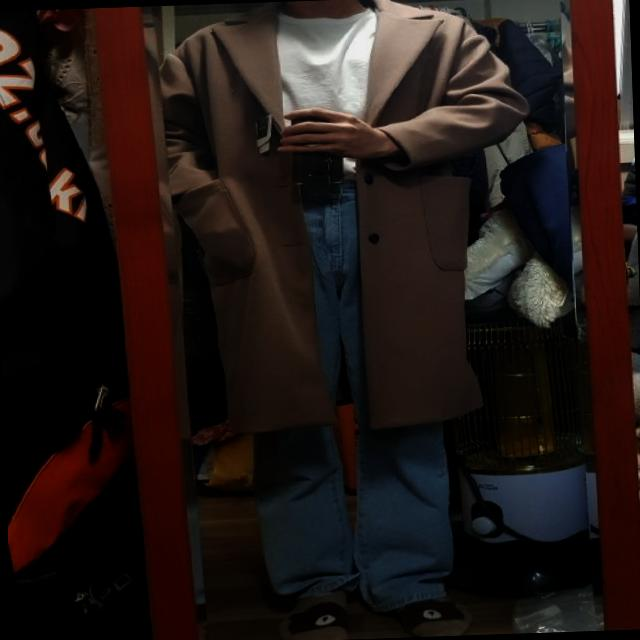coat: (164, 0, 538, 436)
denimpants: (245, 176, 457, 614)
